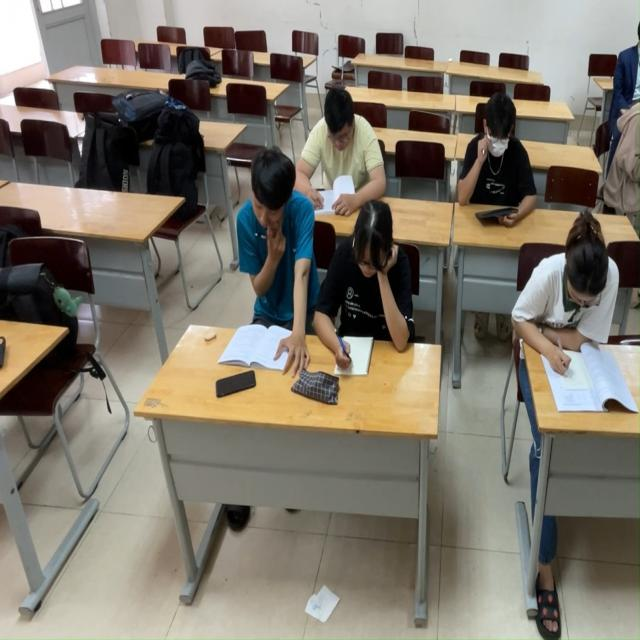read: (496, 197, 637, 422), (311, 196, 437, 387), (296, 80, 384, 225)
